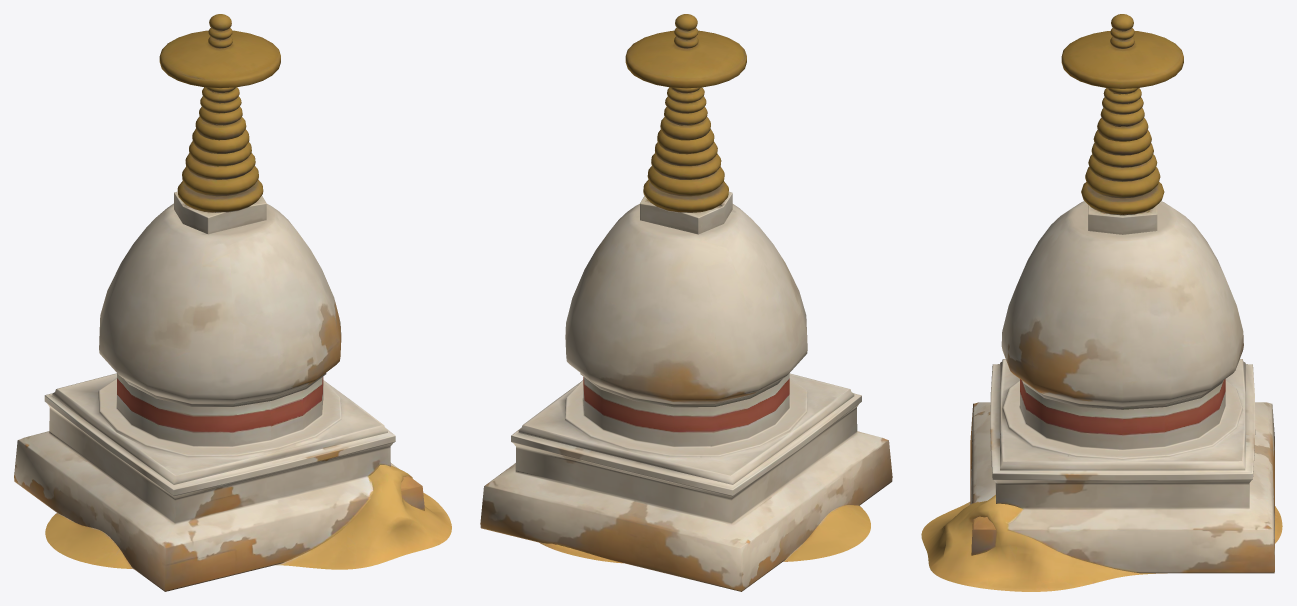
The model's file is SM_Tripo_DesertWhiteStupa.glb.
3 views of the same model, side by side, from view 1: azimuth 30°, elevation 25°; view 2: azimuth 150°, elevation 25°; view 3: azimuth 270°, elevation 25° (orthographic).
Visible parts, largest first — view 1: SM_Tripo_DesertWhiteStupa_LOD0; view 2: SM_Tripo_DesertWhiteStupa_LOD0; view 3: SM_Tripo_DesertWhiteStupa_LOD0.
Part boxes in pixels (left/top/right/bottom): SM_Tripo_DesertWhiteStupa_LOD0: left=14, top=14, right=451, bottom=591; SM_Tripo_DesertWhiteStupa_LOD0: left=480, top=14, right=892, bottom=591; SM_Tripo_DesertWhiteStupa_LOD0: left=921, top=14, right=1282, bottom=591.
Bounding box in the file's own units: 13.66 × 19.07 × 12.62.
Materials: 1 (1 with a texture image).
